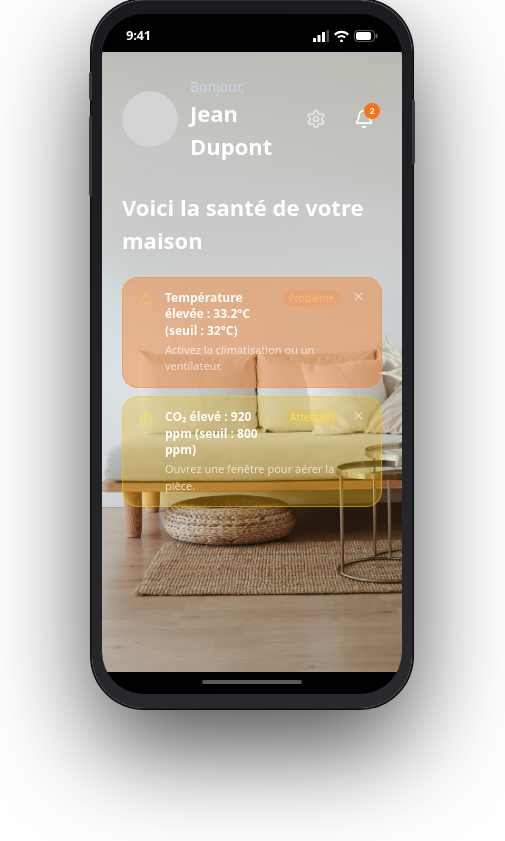
AlertsPreview › opens the notification panel on bell click
The image size is (505, 841).
Click the button "2": (364, 119) x1=346 y1=101 x2=382 y2=137
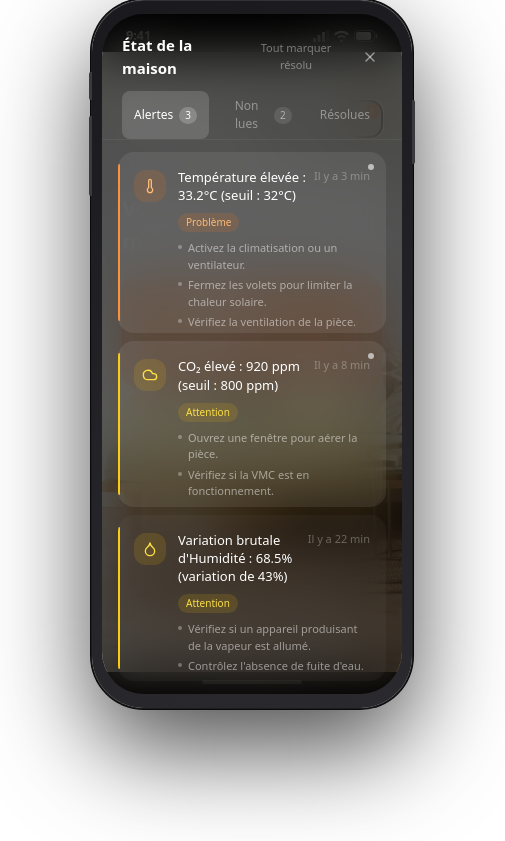
Expected: the button "Alertes 3" is shown, x1=122 y1=91 x2=209 y2=139
